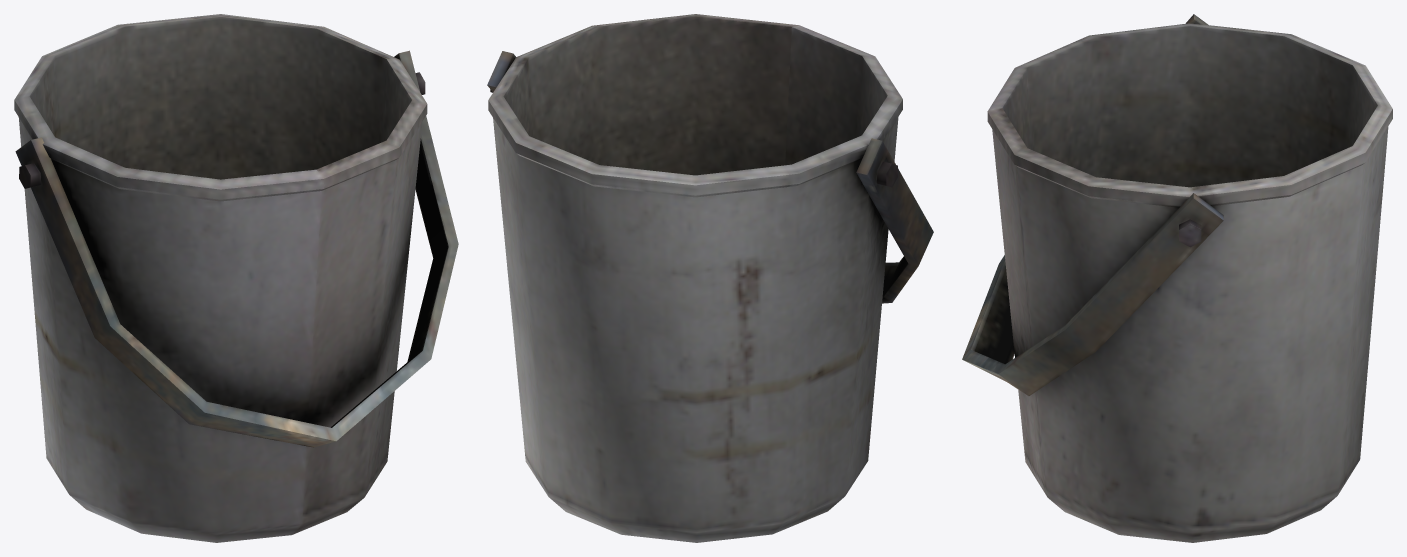
File: SmallBucket.FBX
3 renders of one model, left to right at view 1: azimuth 30°, elevation 25°; view 2: azimuth 150°, elevation 25°; view 3: azimuth 270°, elevation 25°, orthographic. The views are drawn at different scales.
Parts seen in each view (by area): view 1: SmallBucket; view 2: SmallBucket; view 3: SmallBucket.
Boxes of the visible parts, <box> form: SmallBucket: <box>14,14,458,542</box>; SmallBucket: <box>487,14,933,542</box>; SmallBucket: <box>962,14,1392,542</box>.
Size of the model in its own units: 38.94 by 36.31 by 37.5.
